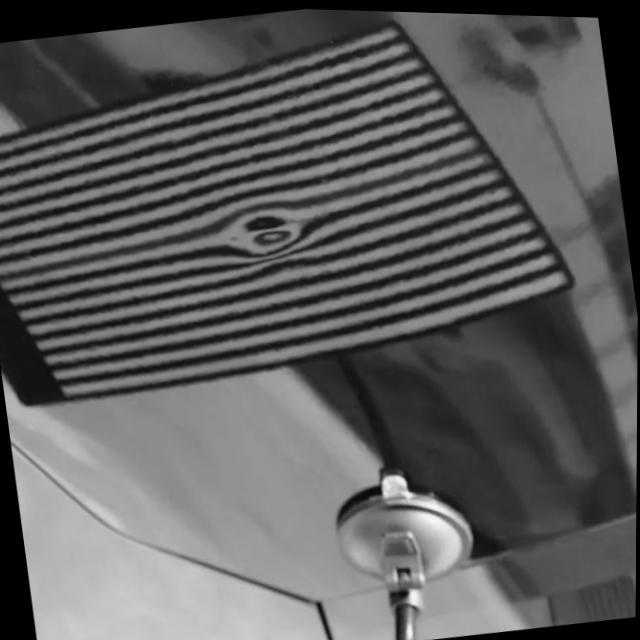PDR-Dent: (197, 180, 334, 295)
